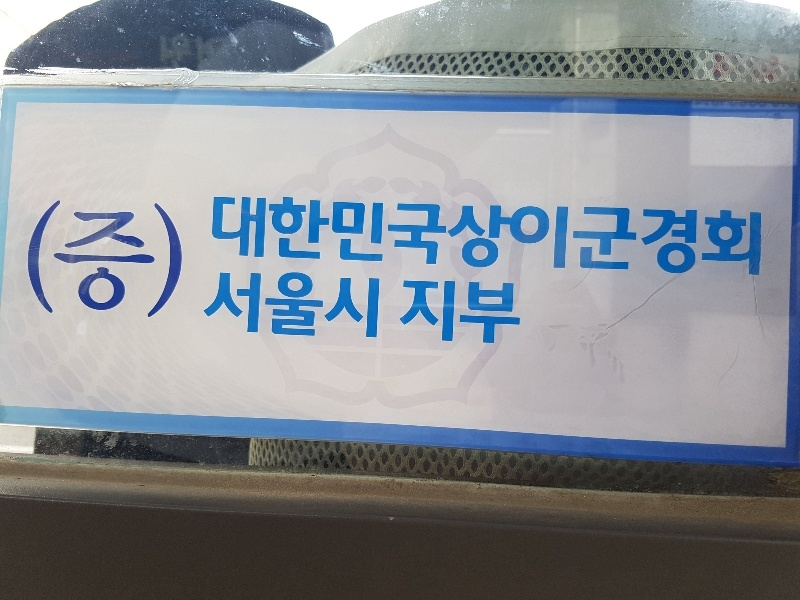text: (33, 196, 48, 325), (49, 196, 64, 325), (65, 196, 80, 325), (81, 196, 96, 325), (97, 196, 112, 325), (113, 196, 128, 325), (129, 196, 144, 325), (145, 196, 160, 325), (161, 196, 176, 325), (225, 191, 240, 283), (241, 191, 256, 283), (257, 191, 272, 283), (273, 191, 288, 283), (289, 191, 304, 283), (305, 191, 320, 283), (321, 191, 336, 283), (337, 191, 352, 283), (353, 191, 368, 283), (369, 191, 384, 283), (385, 191, 400, 283), (401, 191, 416, 283), (417, 191, 432, 283), (433, 191, 448, 283), (449, 191, 464, 283), (465, 191, 480, 283), (481, 191, 496, 283), (497, 191, 512, 283), (513, 191, 528, 283), (529, 191, 544, 283), (545, 191, 560, 283), (561, 191, 576, 283), (577, 191, 592, 283), (593, 191, 608, 283), (609, 191, 624, 283), (625, 191, 640, 283), (641, 191, 656, 283), (657, 191, 672, 283), (673, 191, 688, 283), (689, 191, 704, 283), (705, 191, 720, 283), (721, 191, 736, 283), (737, 191, 752, 283), (209, 267, 224, 349), (225, 267, 240, 349), (241, 267, 256, 349), (257, 267, 272, 349), (273, 267, 288, 349), (289, 267, 304, 349), (305, 267, 320, 349), (321, 267, 336, 349), (337, 267, 352, 349), (353, 267, 368, 349), (369, 267, 384, 349), (385, 267, 400, 349), (401, 267, 416, 349), (417, 267, 432, 349), (433, 267, 448, 349), (449, 267, 464, 349), (465, 267, 480, 349), (481, 267, 496, 349), (497, 267, 512, 349), (753, 191, 766, 283), (177, 196, 186, 325), (513, 267, 526, 349), (213, 191, 224, 283), (205, 267, 208, 349), (31, 196, 32, 325)
